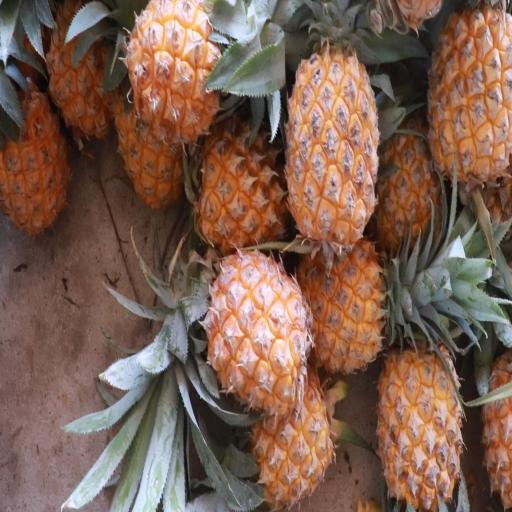Pineapple - v8 v1: (283, 10, 383, 252), (199, 244, 313, 427), (375, 302, 467, 512), (417, 0, 512, 188), (242, 338, 340, 511), (122, 0, 226, 155), (283, 220, 384, 369), (193, 110, 292, 256), (0, 60, 72, 242), (48, 1, 126, 143), (476, 300, 512, 501)
